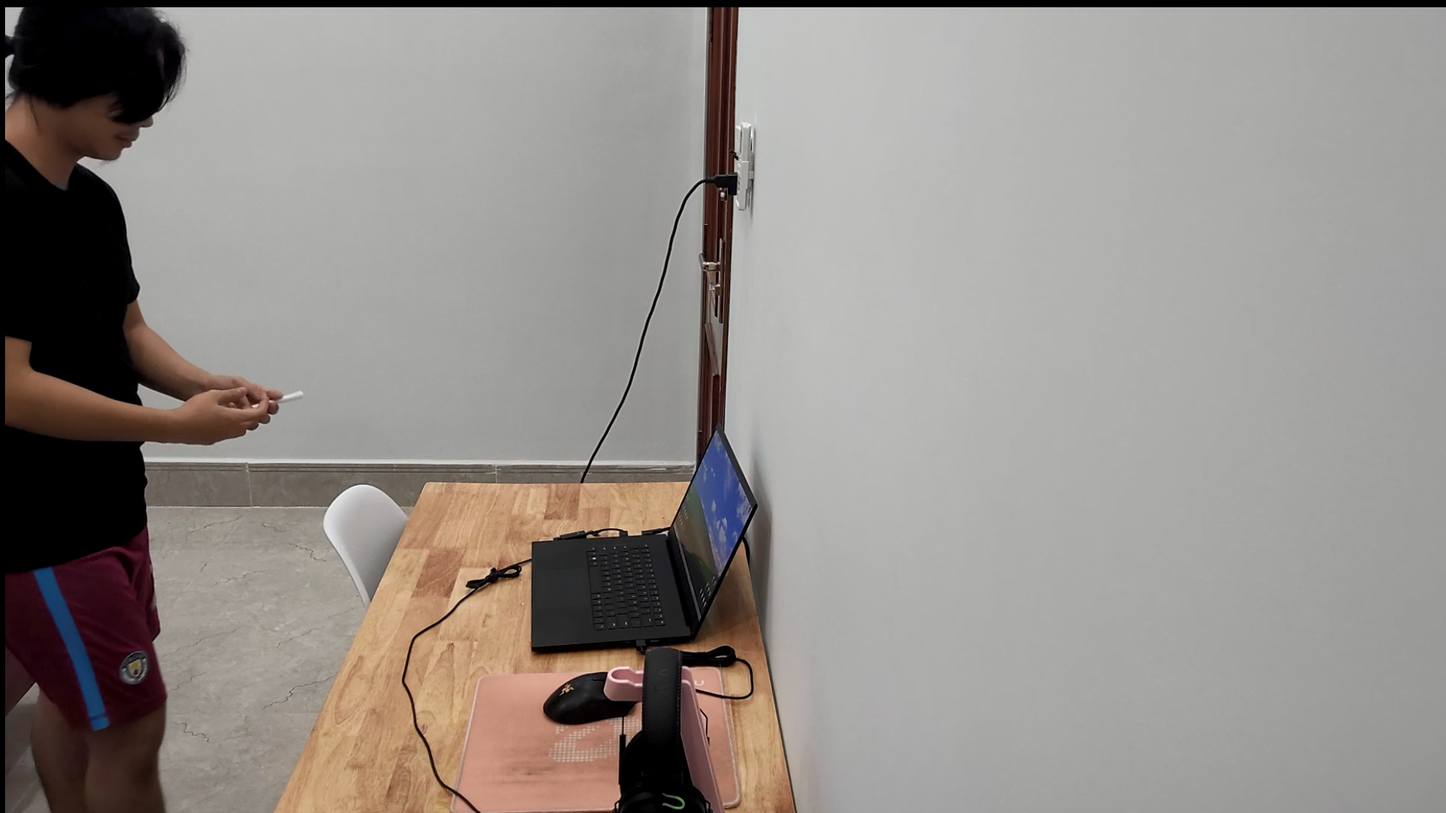cigarette: (255, 389, 314, 412)
person: (0, 0, 303, 813)
